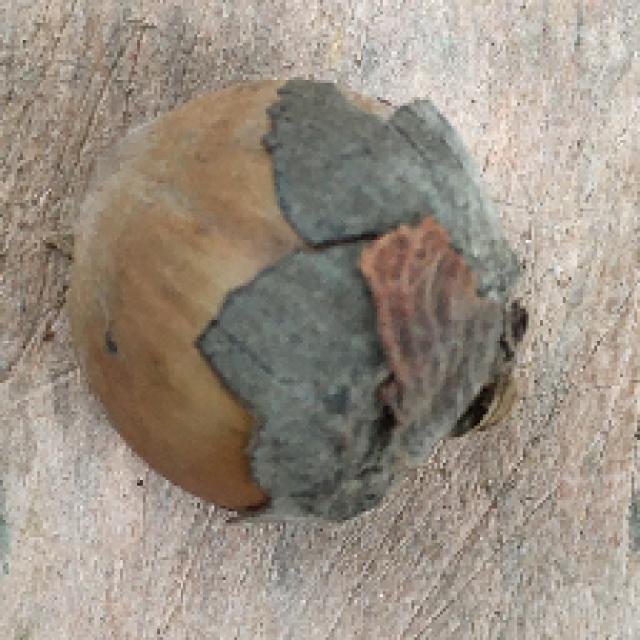damagedHazelnut: (63, 69, 523, 520)
